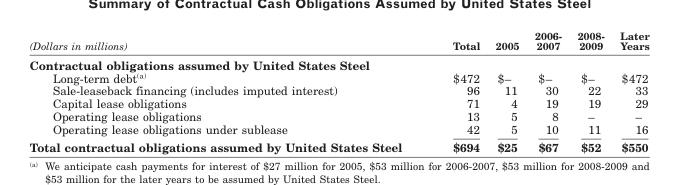table: (28, 28, 648, 154)
table column: (28, 28, 426, 154), (426, 28, 487, 154), (568, 28, 611, 154), (526, 28, 568, 154), (487, 28, 526, 154), (611, 28, 648, 154)
table column header: (28, 28, 648, 54)
table projected row header: (28, 54, 648, 70)
table row: (28, 28, 648, 54), (28, 137, 648, 154), (28, 54, 648, 70), (28, 122, 648, 137), (28, 70, 648, 83), (28, 83, 648, 96), (28, 96, 648, 109), (28, 109, 648, 122)
